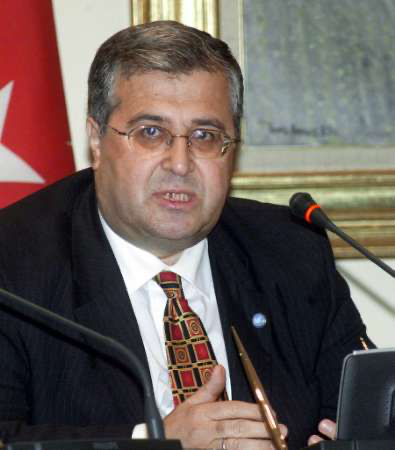Face: (99, 81, 240, 247)
